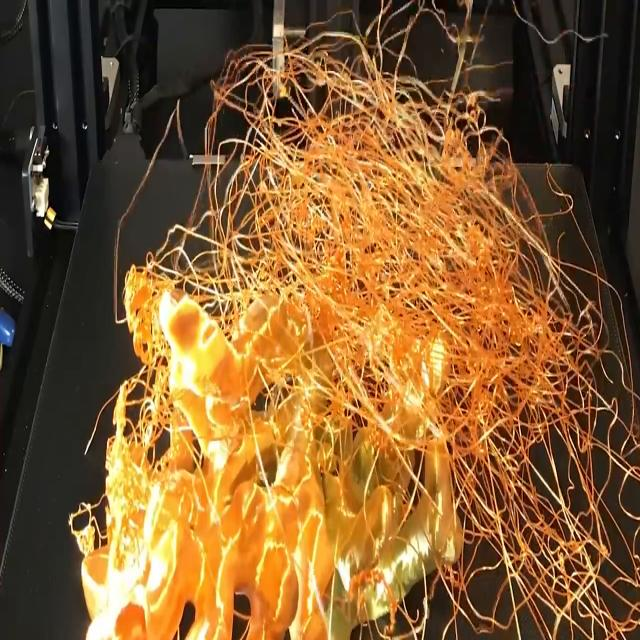spaghetti: (64, 5, 640, 639)
